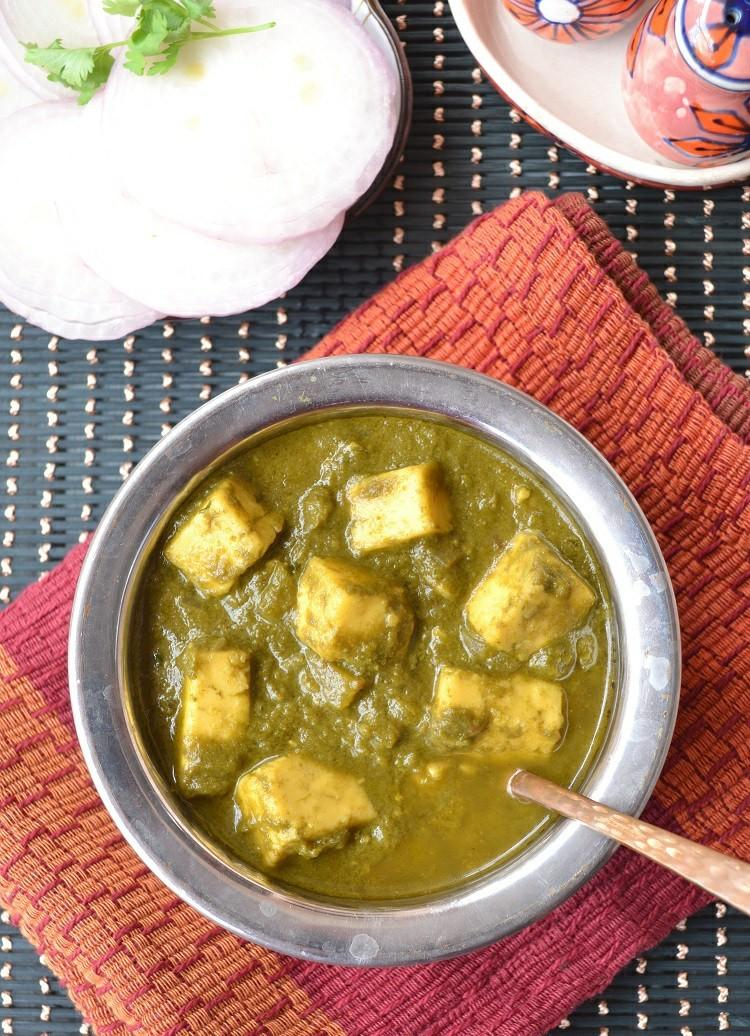PalakPaneer: (139, 402, 604, 899)
